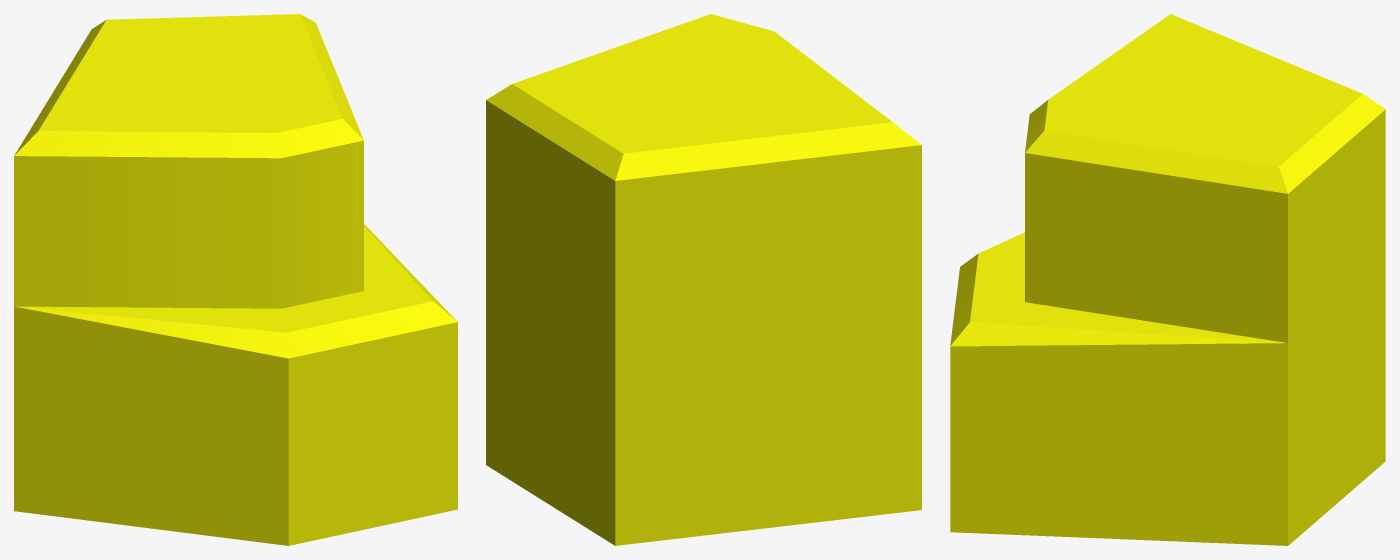
The model's file is kaykit-rock-1-b-color-1.glb.
3 renders of one model, left to right at view 1: azimuth 30°, elevation 25°; view 2: azimuth 150°, elevation 25°; view 3: azimuth 270°, elevation 25°, orthographic. The views are drawn at different scales.
Visible parts, largest first — view 1: Rock_1_B_Color1; view 2: Rock_1_B_Color1; view 3: Rock_1_B_Color1.
Part boxes in pixels (bbox=[...]): Rock_1_B_Color1: bbox=[14, 14, 457, 545]; Rock_1_B_Color1: bbox=[486, 14, 921, 545]; Rock_1_B_Color1: bbox=[950, 14, 1385, 545].
Size of the model in its own units: 0.5511 by 0.5403 by 0.5778.
